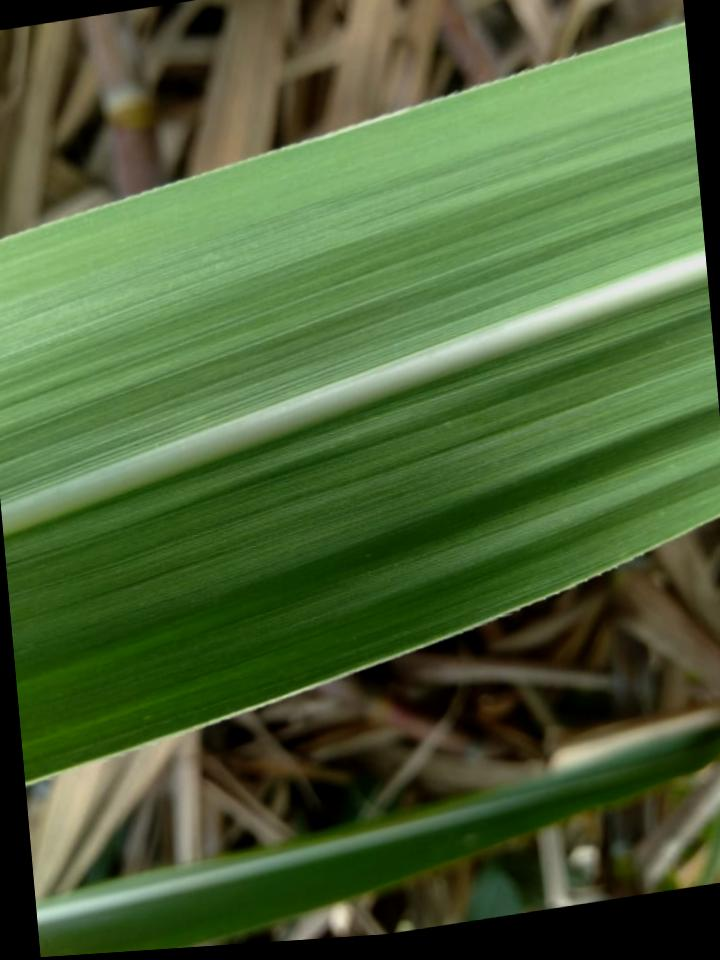Healthy: (0, 18, 720, 785), (37, 729, 720, 957)
